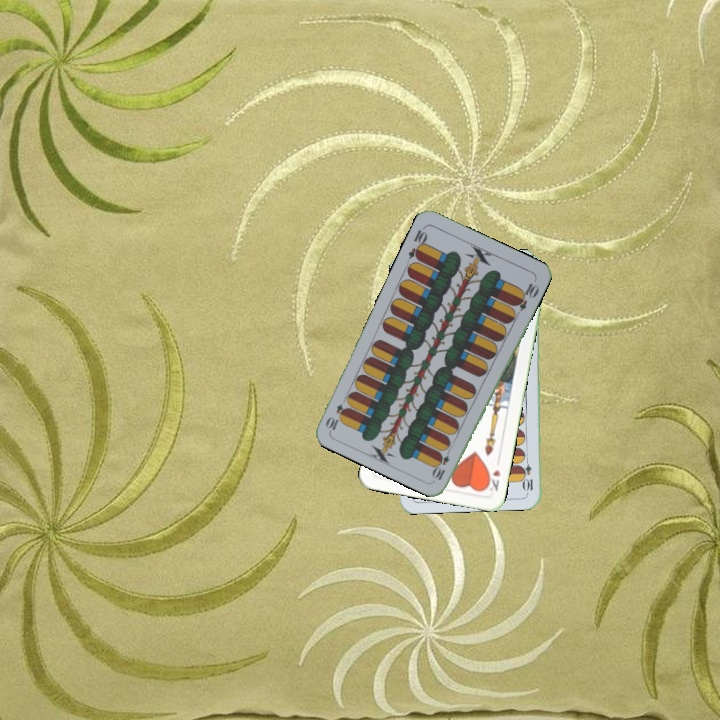E10: (404, 223, 430, 263), (429, 443, 454, 483), (520, 453, 535, 493)
HK: (482, 465, 503, 494)
